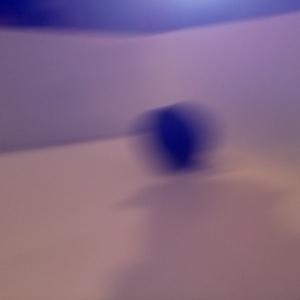dead_ball: (143, 104, 210, 167)
